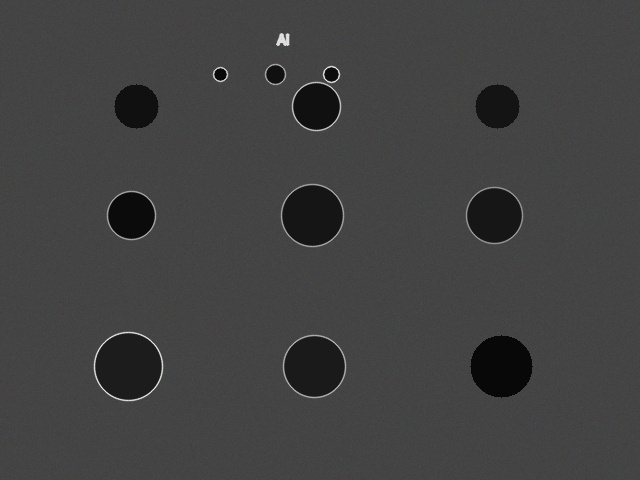hole: (94, 332, 162, 400), (281, 184, 343, 246), (283, 335, 345, 397), (470, 335, 532, 397), (466, 187, 522, 243), (292, 82, 340, 130), (107, 191, 155, 239), (114, 84, 158, 128), (475, 84, 519, 128), (265, 64, 285, 84), (323, 66, 339, 82), (213, 67, 227, 81)
